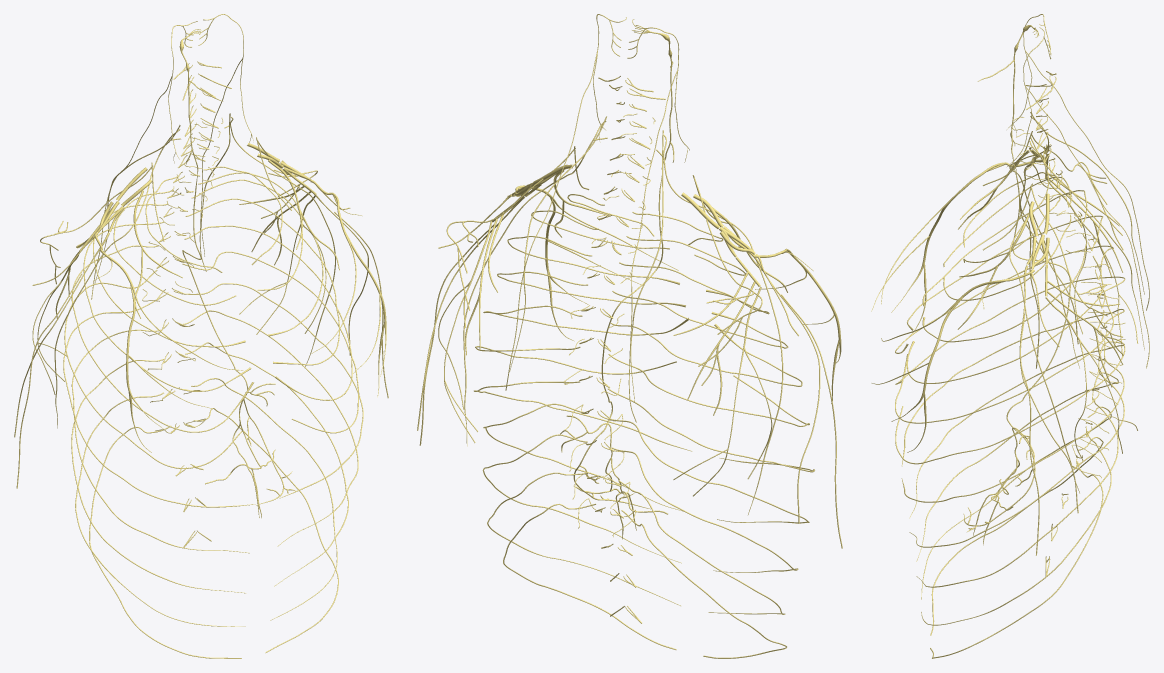
The model's file is nerfs-thorax.hi.glb.
The picture shows the model from 3 angles, left to right: view 1: azimuth 30°, elevation 25°; view 2: azimuth 150°, elevation 25°; view 3: azimuth 270°, elevation 25°; orthographic projection. The views are drawn at different scales.
Parts seen in each view (by area): view 1: ZA-intercostal-nerves-d, ZA-intercostal-nerves-g, ZA-vagus-nerve-x-d, ZA-lateral-pectoral-nerve-d, ZA-lateral-pectoral-nerve-g, ZA-accessory-nerve-xi-g, ZA-long-thoracic-nerve-d; view 2: ZA-intercostal-nerves-g, ZA-intercostal-nerves-d, ZA-vagus-nerve-x-d, ZA-lateral-pectoral-nerve-g, ZA-accessory-nerve-xi-d, ZA-accessory-nerve-xi-g, ZA-lateral-pectoral-nerve-d, ZA-thoracodorsal-nerve-d, ZA-thoracodorsal-nerve-g, ZA-long-thoracic-nerve-d, ZA-suprascapular-nerve-d, ZA-long-thoracic-nerve-g (+2 smaller); view 3: ZA-intercostal-nerves-g, ZA-intercostal-nerves-d, ZA-vagus-nerve-x-d, ZA-lateral-pectoral-nerve-g, ZA-lateral-pectoral-nerve-d, ZA-accessory-nerve-xi-g, ZA-accessory-nerve-xi-d, ZA-long-thoracic-nerve-g, ZA-thoracodorsal-nerve-g, ZA-thoracodorsal-nerve-d, ZA-sympathetic-nerves-g, ZA-sympathetic-nerves-d (+5 smaller).
Part boxes in pixels (bbox=[...]): ZA-intercostal-nerves-d: bbox=[63, 176, 255, 658]; ZA-intercostal-nerves-g: bbox=[181, 166, 363, 652]; ZA-vagus-nerve-x-d: bbox=[179, 29, 295, 518]; ZA-lateral-pectoral-nerve-d: bbox=[93, 233, 243, 452]; ZA-lateral-pectoral-nerve-g: bbox=[310, 181, 386, 397]; ZA-accessory-nerve-xi-g: bbox=[198, 14, 253, 271]; ZA-long-thoracic-nerve-d: bbox=[54, 129, 180, 428]; ZA-intercostal-nerves-g: bbox=[474, 194, 692, 649]; ZA-intercostal-nerves-d: bbox=[608, 212, 814, 658]; ZA-vagus-nerve-x-d: bbox=[560, 25, 674, 539]; ZA-lateral-pectoral-nerve-g: bbox=[507, 185, 678, 341]; ZA-accessory-nerve-xi-d: bbox=[627, 19, 689, 422]; ZA-accessory-nerve-xi-g: bbox=[505, 14, 626, 390]; ZA-lateral-pectoral-nerve-d: bbox=[754, 248, 841, 403]; ZA-thoracodorsal-nerve-d: bbox=[673, 286, 772, 496]; ZA-thoracodorsal-nerve-g: bbox=[438, 221, 492, 442]; ZA-long-thoracic-nerve-d: bbox=[656, 135, 783, 514]; ZA-suprascapular-nerve-d: bbox=[694, 178, 762, 385]; ZA-long-thoracic-nerve-g: bbox=[463, 121, 607, 446]; ZA-intercostal-nerves-g: bbox=[895, 196, 1125, 658]; ZA-intercostal-nerves-d: bbox=[895, 172, 1125, 635]; ZA-vagus-nerve-x-d: bbox=[963, 25, 1070, 545]; ZA-lateral-pectoral-nerve-g: bbox=[871, 269, 1034, 452]; ZA-lateral-pectoral-nerve-d: bbox=[871, 161, 1030, 335]; ZA-accessory-nerve-xi-g: bbox=[1007, 27, 1149, 368]; ZA-accessory-nerve-xi-d: bbox=[1007, 14, 1149, 310]; ZA-long-thoracic-nerve-g: bbox=[1009, 141, 1079, 493]; ZA-thoracodorsal-nerve-g: bbox=[1045, 297, 1137, 460]; ZA-thoracodorsal-nerve-d: bbox=[1046, 178, 1138, 355]; ZA-sympathetic-nerves-g: bbox=[1012, 127, 1125, 478]; ZA-sympathetic-nerves-d: bbox=[1012, 116, 1125, 462].
Size of the model in its own units: 0.3663 by 0.5619 by 0.2299.
